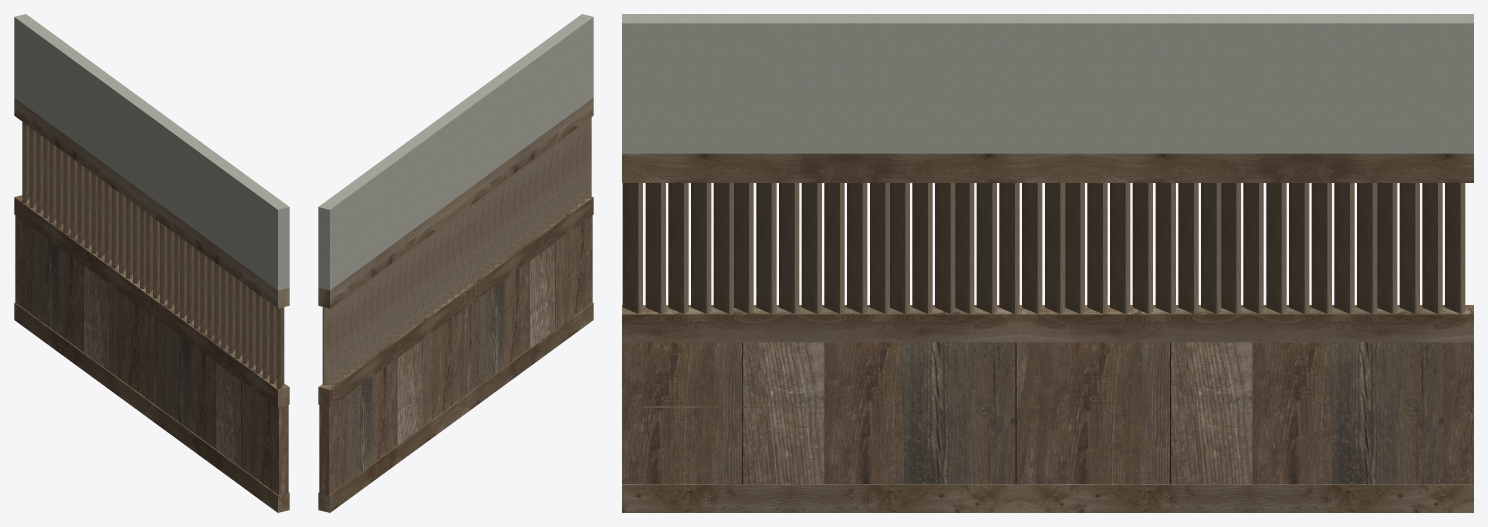
File: SM_Sun_Toilet_Wall_I.fbx
The picture shows the model from 3 angles, left to right: view 1: azimuth 30°, elevation 25°; view 2: azimuth 150°, elevation 25°; view 3: azimuth 270°, elevation 25°; orthographic projection. The views are drawn at different scales.
Visible parts, largest first — view 1: SM_Sun_Toilet_Wall_I; view 2: SM_Sun_Toilet_Wall_I; view 3: SM_Sun_Toilet_Wall_I.
Boxes of the visible parts, x1,y1,x2,y2 form: SM_Sun_Toilet_Wall_I: (14,14,289,512); SM_Sun_Toilet_Wall_I: (318,14,593,512); SM_Sun_Toilet_Wall_I: (622,14,1473,512).
Bounding box in the file's own units: 10 × 245 × 386.
